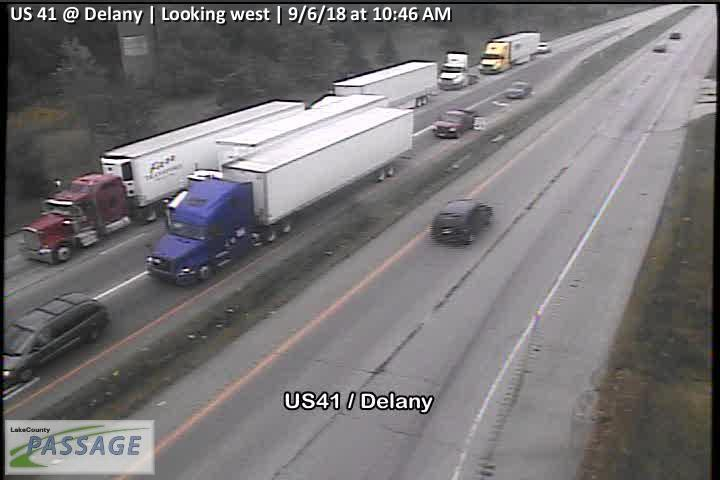SUV: (1, 290, 108, 388), (428, 197, 495, 247)
Sedan: (502, 81, 534, 99), (535, 40, 554, 55), (651, 41, 668, 53), (670, 30, 681, 40)
Truck: (144, 105, 414, 289), (19, 98, 306, 269), (161, 93, 387, 224), (307, 59, 438, 115), (478, 30, 541, 74), (436, 51, 484, 90), (431, 107, 479, 141)
